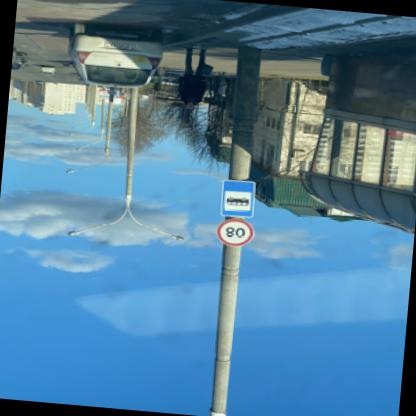speedlimit: (213, 220, 253, 250)
